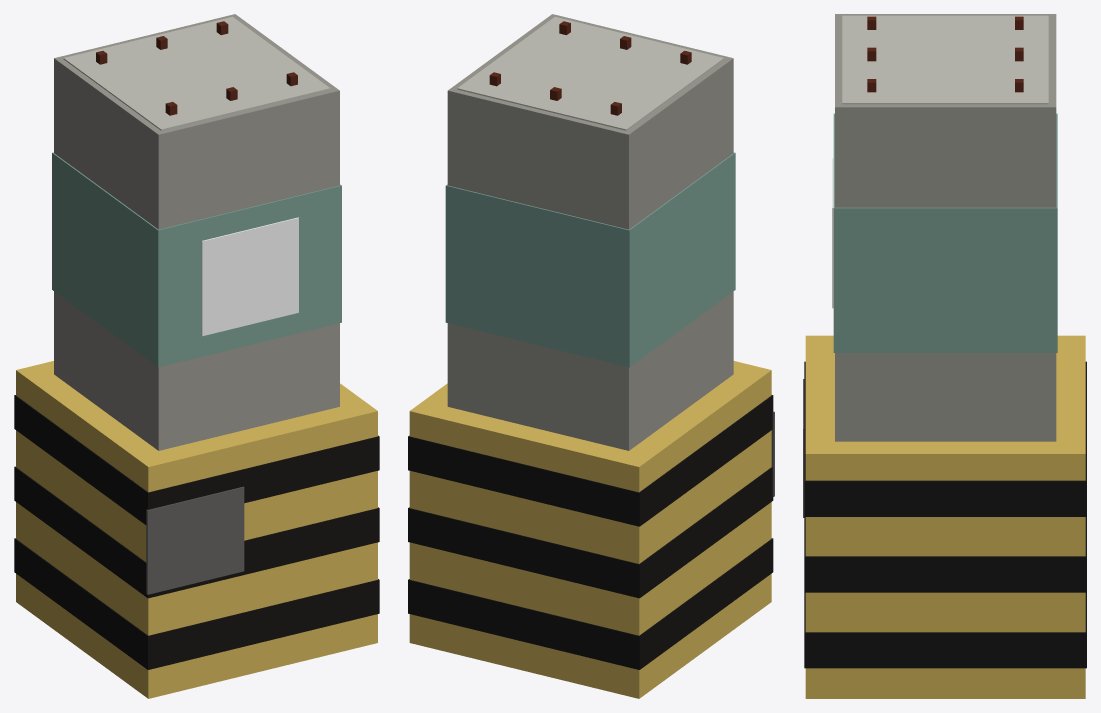
The model's file is garage_column.glb.
The picture shows the model from 3 angles, left to right: view 1: azimuth 30°, elevation 25°; view 2: azimuth 150°, elevation 25°; view 3: azimuth 270°, elevation 25°; orthographic projection. The views are drawn at different scales.
Visible parts, largest first — view 1: garage_column_conc, garage_column_must, garage_column_black, garage_column_teal, garage_column_cut, garage_column_white, garage_column_conc_d, garage_column_rust; view 2: garage_column_must, garage_column_conc, garage_column_teal, garage_column_black, garage_column_cut, garage_column_rust; view 3: garage_column_must, garage_column_conc, garage_column_teal, garage_column_black, garage_column_cut, garage_column_rust.
Boxes of the visible parts, box(x1,y1,x2,y2) form: garage_column_conc: box(54, 14, 339, 450); garage_column_must: box(16, 361, 377, 698); garage_column_black: box(14, 395, 379, 669); garage_column_teal: box(52, 152, 341, 367); garage_column_cut: box(63, 16, 330, 130); garage_column_white: box(201, 217, 298, 336); garage_column_conc_d: box(146, 486, 244, 594); garage_column_rust: box(96, 21, 297, 115); garage_column_must: box(409, 361, 771, 698); garage_column_conc: box(447, 14, 733, 450); garage_column_teal: box(445, 152, 735, 367); garage_column_black: box(408, 395, 773, 669); garage_column_cut: box(457, 17, 723, 130); garage_column_rust: box(489, 21, 691, 115); garage_column_must: box(805, 335, 1085, 698); garage_column_conc: box(835, 14, 1056, 441); garage_column_teal: box(833, 113, 1057, 352); garage_column_black: box(804, 361, 1086, 668); garage_column_cut: box(842, 15, 1048, 104); garage_column_rust: box(867, 16, 1023, 92).
Size of the model in its own units: 1.15 by 2.65 by 1.15.
